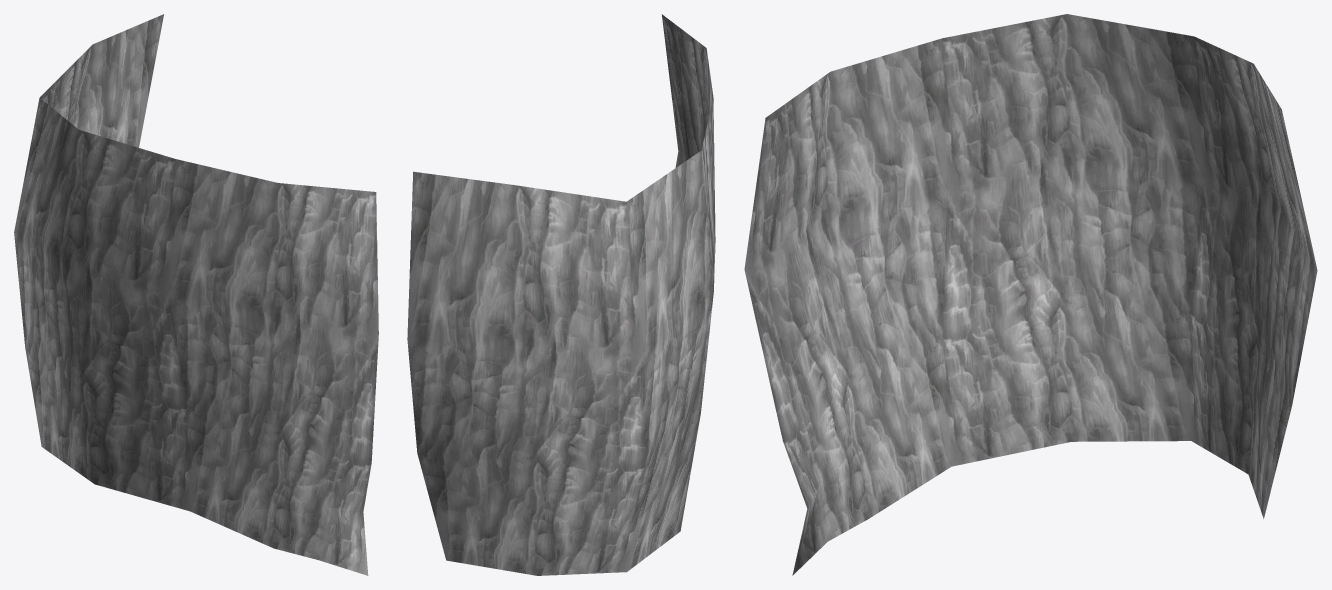
File: SWORDLIGHT20_PS-AREA03_62.fbx
3 renders of one model, left to right at view 1: azimuth 30°, elevation 25°; view 2: azimuth 150°, elevation 25°; view 3: azimuth 270°, elevation 25°, orthographic. The views are drawn at different scales.
Visible parts, largest first — view 1: SWORDLIGHT20_PS-AREA03_62; view 2: SWORDLIGHT20_PS-AREA03_62; view 3: SWORDLIGHT20_PS-AREA03_62.
Part boxes in pixels (left/top/right/bottom): SWORDLIGHT20_PS-AREA03_62: left=14, top=14, right=378, bottom=575; SWORDLIGHT20_PS-AREA03_62: left=407, top=14, right=715, bottom=575; SWORDLIGHT20_PS-AREA03_62: left=744, top=14, right=1317, bottom=575.
Size of the model in its own units: 74396 by 151692 by 167452.
1 material, 1 textured.
